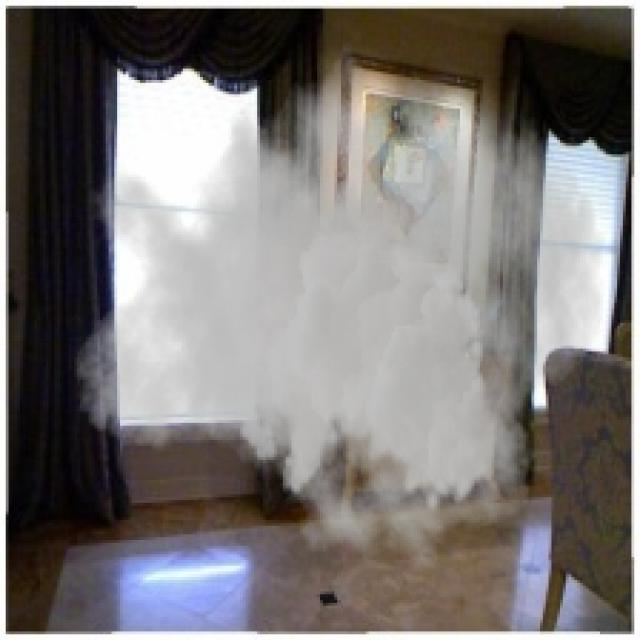smoke: (71, 20, 606, 574)
